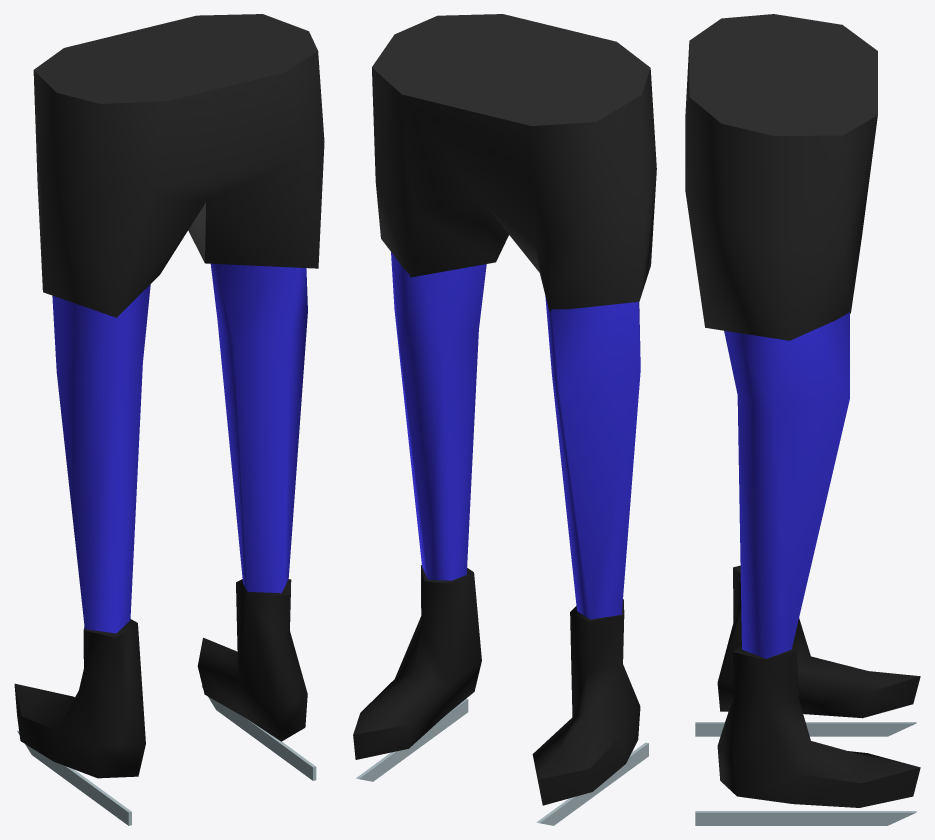
File: bluelower.glb
The picture shows the model from 3 angles, left to right: view 1: azimuth 30°, elevation 25°; view 2: azimuth 150°, elevation 25°; view 3: azimuth 270°, elevation 25°; orthographic projection. The views are drawn at different scales.
Parts seen in each view (by area): view 1: baselower; view 2: baselower; view 3: baselower.
Part boxes in pixels (x1=…): baselower: x1=14, y1=14, x2=324, y2=825; baselower: x1=353, y1=14, x2=656, y2=825; baselower: x1=685, y1=14, x2=920, y2=825.
Bounding box in the file's own units: 0.2947 × 0.7488 × 0.2245.
1 material, 1 textured.
